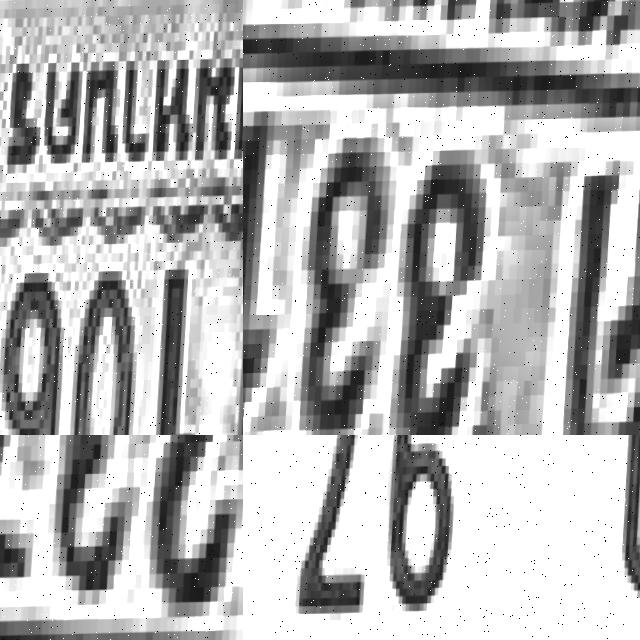license-plate: (243, 0, 640, 435), (0, 0, 243, 435), (243, 435, 640, 640), (0, 435, 243, 640)
